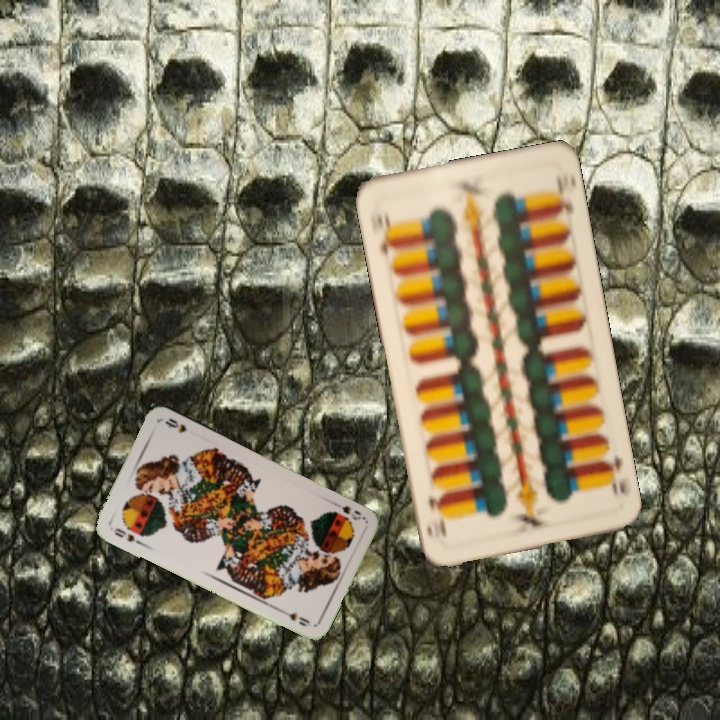E10: (598, 450, 628, 499), (375, 209, 399, 257)
SO: (109, 524, 144, 547), (337, 502, 367, 523)
